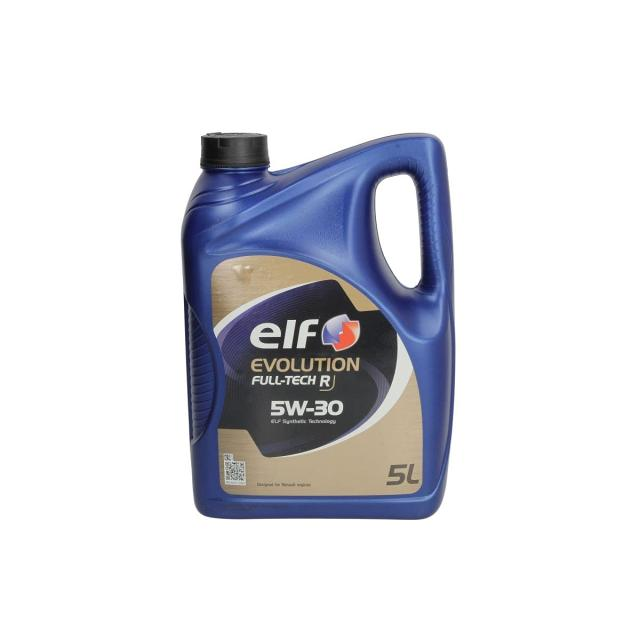motor_oil: (178, 118, 466, 527)
